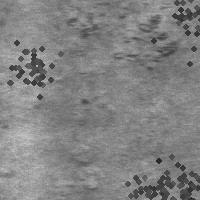rolled-in_scale: (69, 5, 177, 69), (0, 26, 70, 104), (108, 148, 188, 200), (145, 0, 200, 66), (142, 153, 200, 200)
